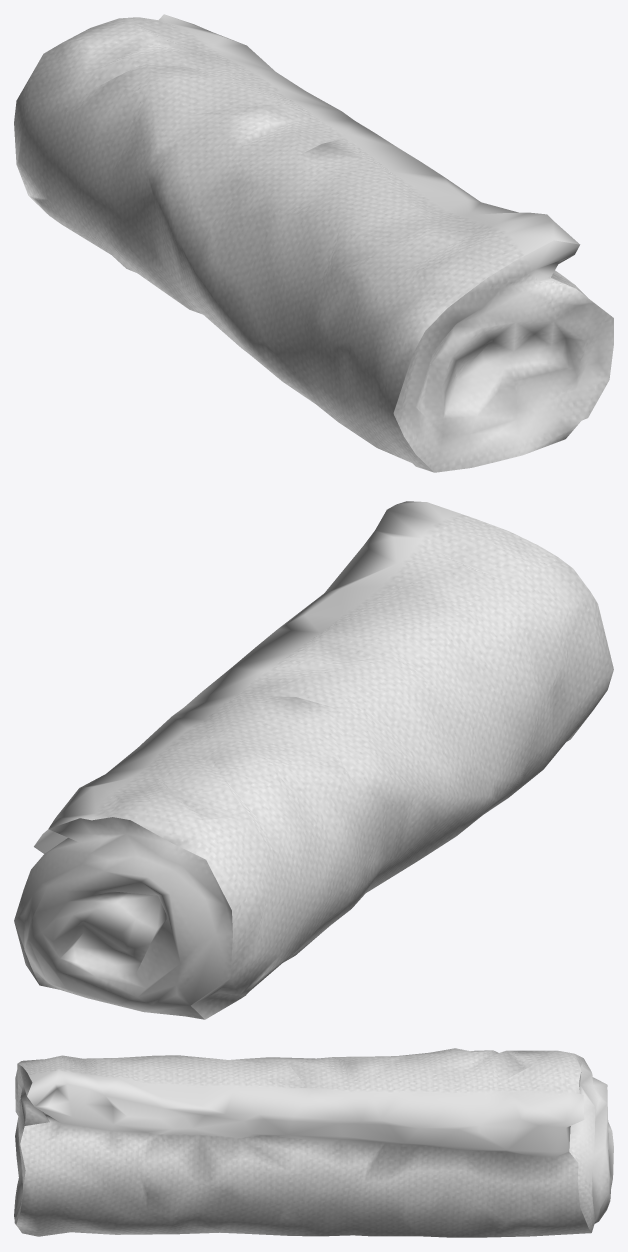
Rendered from Towel_B.fbx.
3 views of the same model, one above another, from view 1: azimuth 30°, elevation 25°; view 2: azimuth 150°, elevation 25°; view 3: azimuth 270°, elevation 25° (orthographic). The views are drawn at different scales.
Parts seen in each view (by area): view 1: Towel_B_LOD0; view 2: Towel_B_LOD0; view 3: Towel_B_LOD0.
Boxes of the visible parts, x1,y1,x2,y2 form: Towel_B_LOD0: [14, 14, 613, 472]; Towel_B_LOD0: [14, 501, 613, 1019]; Towel_B_LOD0: [14, 1048, 613, 1237].
Size of what is drawn, in the model's own units: 12.88 by 10.32 by 35.83.
